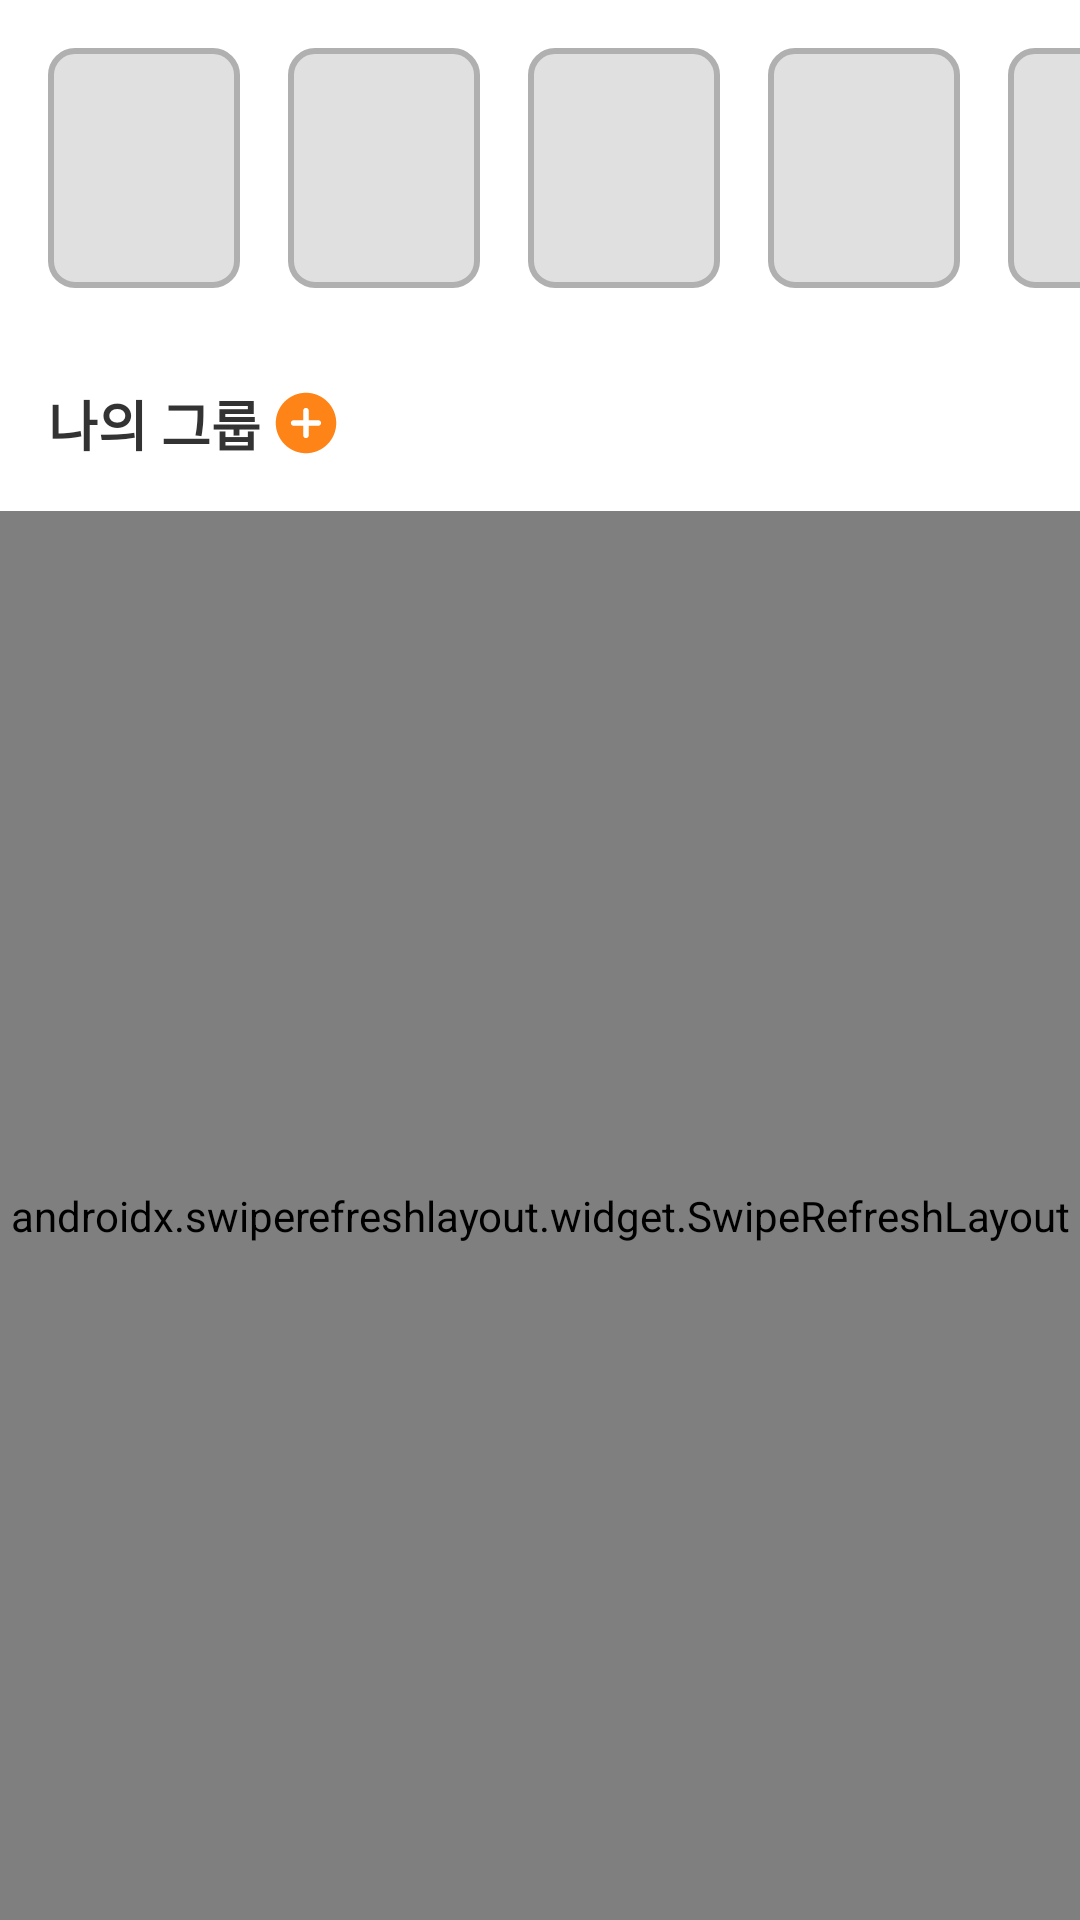

Screen size 1080x1920. Icon name, then its center in pixels as [x,y]:
add: [306,423]
